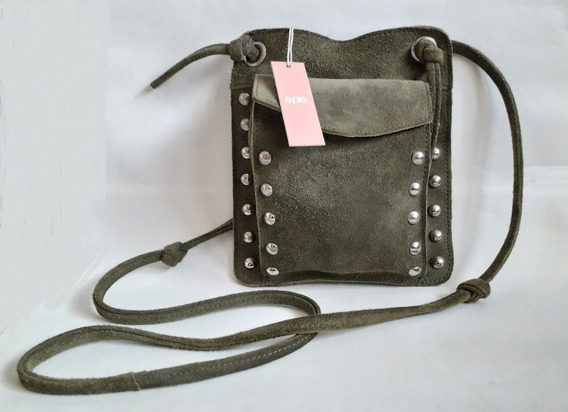cartera: (224, 16, 457, 290)
